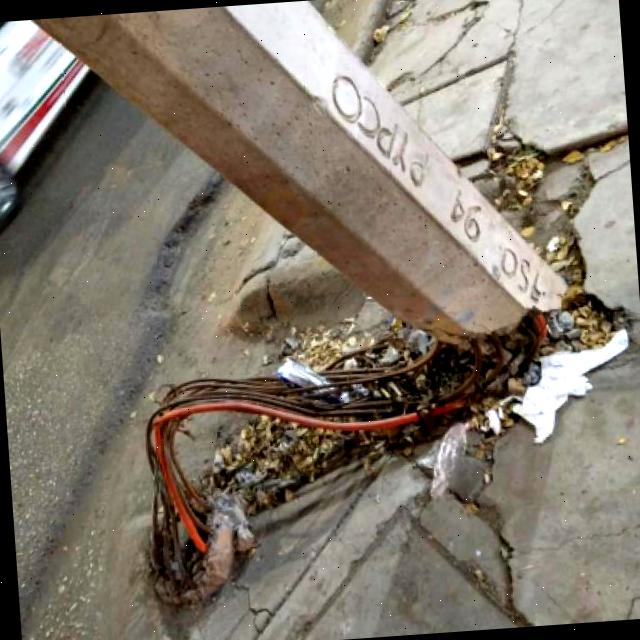Broken Pole: (28, 3, 569, 347)
